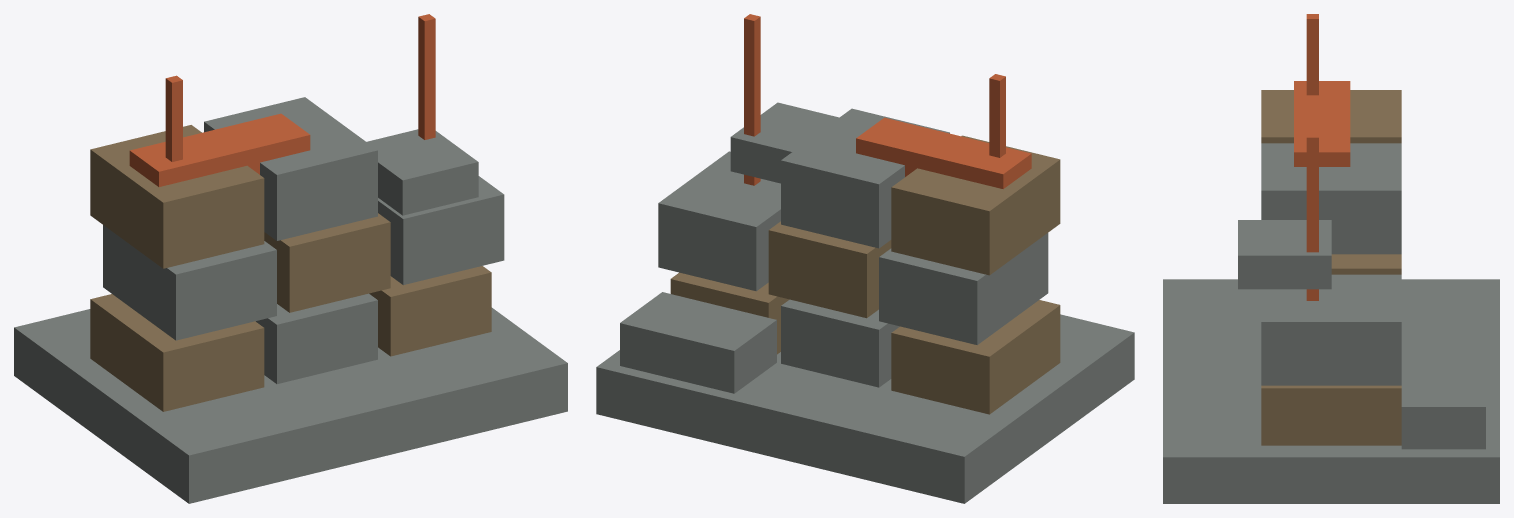
File: base_ruin.glb
3 views of the same model, side by side, from view 1: azimuth 30°, elevation 25°; view 2: azimuth 150°, elevation 25°; view 3: azimuth 270°, elevation 25° (orthographic). The views are drawn at different scales.
Parts seen in each view (by area): view 1: footing, masonry.006, masonry, masonry.003, masonry.007, masonry.004, masonry.005, masonry.002, masonry.001, broken_cap, broken_cap.001, rebar.001 (+1 smaller); view 2: footing, masonry.006, masonry, masonry.005, masonry.003, masonry.007, fallen_stone, masonry.004, masonry.001, broken_cap, broken_cap.001, masonry.002 (+2 smaller); view 3: footing, masonry.005, masonry.007, masonry.002, fallen_stone, broken_cap.001, masonry.006, broken_cap, rebar.001, masonry.004, rebar.
Boxes of the visible parts, x1,y1,x2,y2 form: footing: (14,307,567,503); masonry.006: (90,125,264,268); masonry: (90,294,264,411); masonry.003: (103,225,276,340); masonry.007: (204,97,377,240); masonry.004: (264,213,390,312); masonry.005: (378,176,504,284); masonry.002: (369,266,491,356); masonry.001: (256,293,377,383); broken_cap: (129,113,310,186); broken_cap.001: (367,129,478,215); rebar.001: (418,14,435,139); footing: (596,314,1134,503); masonry.006: (891,135,1060,275); masonry: (891,300,1060,414); masonry.005: (658,151,780,291); masonry.003: (879,233,1048,344); masonry.007: (781,108,949,248); fallen_stone: (620,292,776,393); masonry.004: (768,221,891,318); masonry.001: (781,299,899,387); broken_cap: (856,117,1031,188); broken_cap.001: (730,102,838,183); masonry.002: (670,272,789,354); footing: (1163,279,1499,503); masonry.005: (1261,274,1401,385); masonry.007: (1261,143,1401,254); masonry.002: (1261,385,1401,445); fallen_stone: (1401,351,1485,449); broken_cap.001: (1238,220,1331,289); masonry.006: (1261,90,1401,143); broken_cap: (1294,81,1350,166); rebar.001: (1306,132,1318,300); masonry.004: (1331,254,1401,274); rebar: (1306,14,1318,95).
Bounding box in the file's own units: 0.9 × 0.8 × 0.72.
